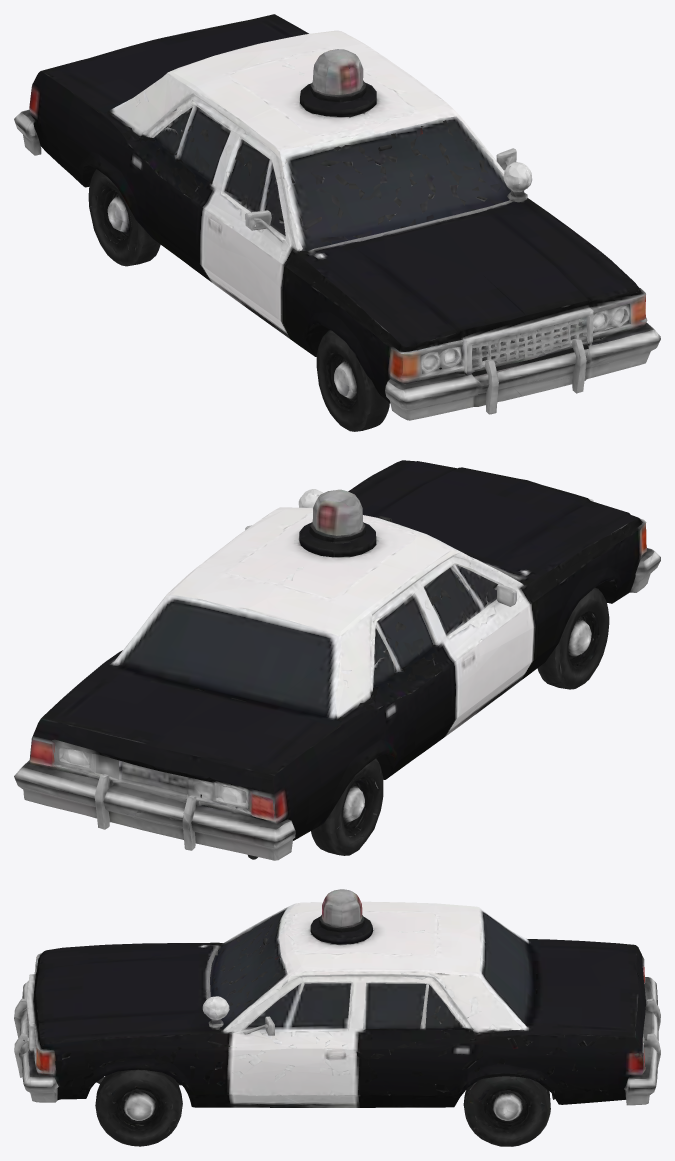
File: traffic-police.glb
The picture shows the model from 3 angles, top to bottom: view 1: azimuth 30°, elevation 25°; view 2: azimuth 150°, elevation 25°; view 3: azimuth 270°, elevation 25°; orthographic projection. The views are drawn at different scales.
Parts seen in each view (by area): view 1: geometry_0; view 2: geometry_0; view 3: geometry_0.
Boxes of the visible parts, bbox=[...] form: geometry_0: bbox=[14, 14, 660, 431]; geometry_0: bbox=[14, 460, 660, 860]; geometry_0: bbox=[14, 889, 660, 1146].
Size of the model in its own units: 0.3923 by 0.3542 by 0.9983.
1 material, 1 textured.
